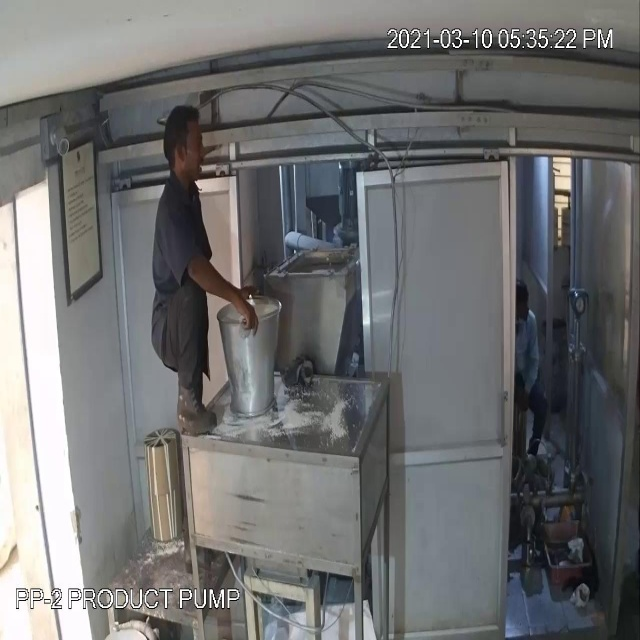Sin_guantes: (176, 240, 269, 352)
